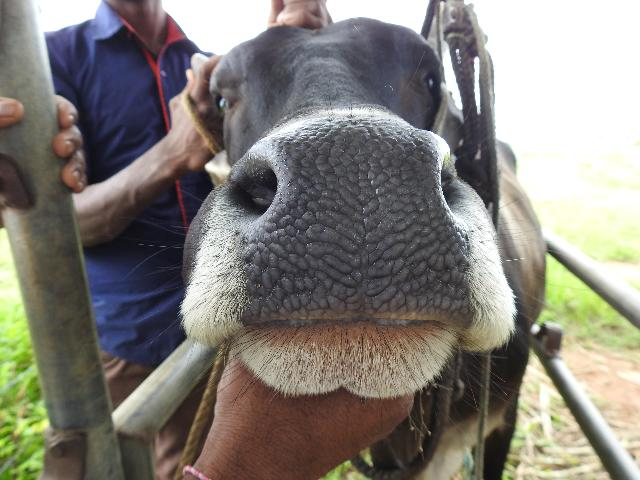Muzzle: (271, 126, 451, 320)
